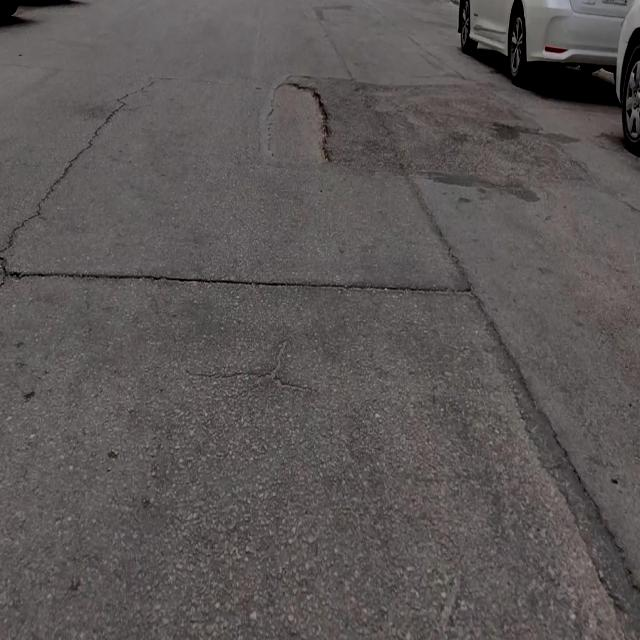Potholes: (264, 81, 332, 162)
